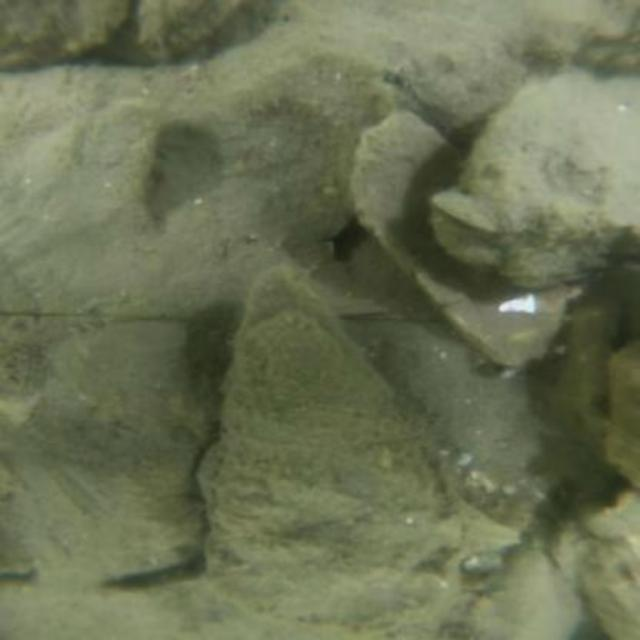Oyster-Closed: (0, 70, 396, 319), (210, 289, 449, 609), (345, 107, 569, 371), (8, 324, 212, 577), (437, 71, 631, 286), (224, 6, 523, 125), (439, 546, 572, 634), (4, 0, 130, 68), (558, 525, 638, 631), (132, 0, 248, 62), (606, 343, 633, 480)
